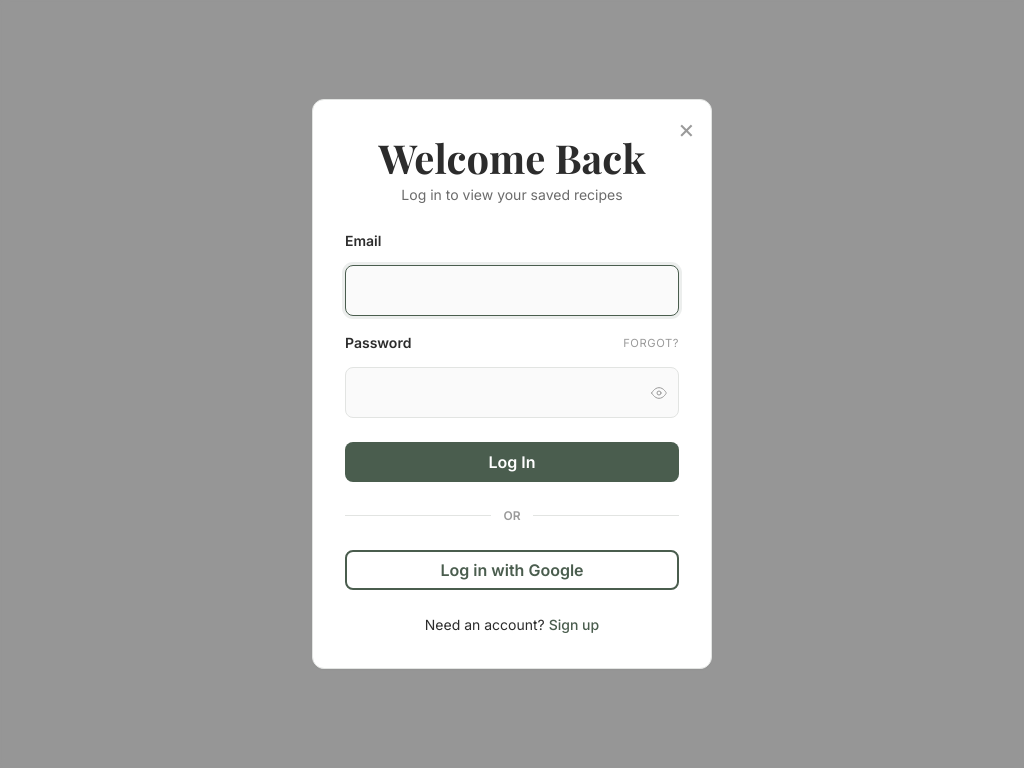
Test: LoginModal Component › blocks submission and shows errors for empty fields
Click the button "Log In" at (512, 462), box left=345, top=442, right=679, bottom=482
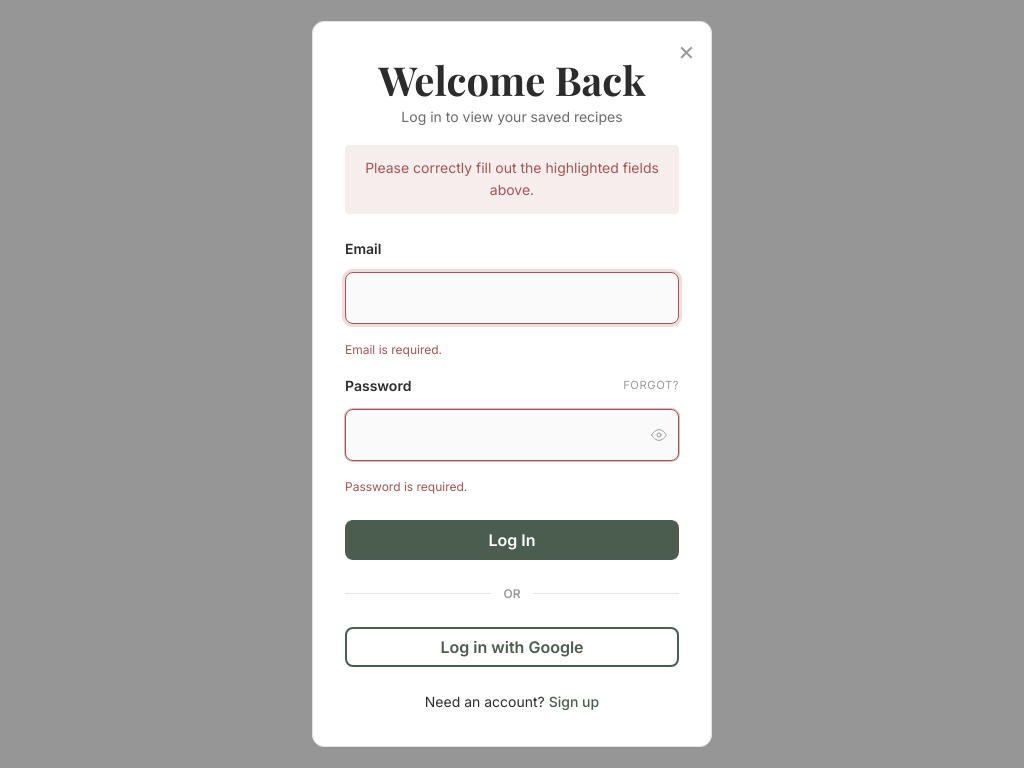
Check: the text "Email is required." is shown, box left=345, top=342, right=442, bottom=357
Check: the text "Password is required." is shown, box left=345, top=479, right=467, bottom=494
Check: the text "Please correctly fill out the highlighted fields above." is shown, box left=345, top=145, right=679, bottom=214
